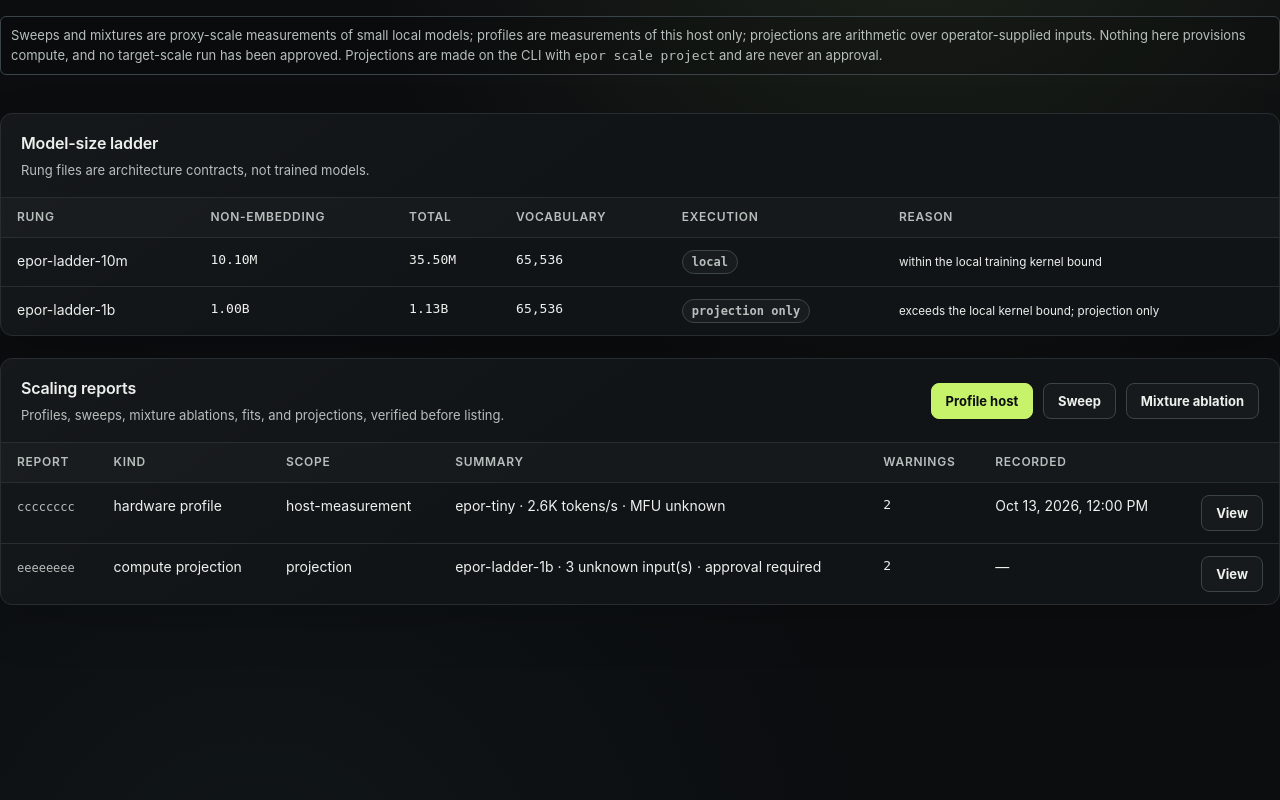
it: ScalingPage › reports MFU as unknown when no device peak was supplied
The width and height of the screenshot is (1280, 800).
Click the button "View" in the row of "cccccccc": (1232, 513) [1201,495,1263,531]
(page scrolled)
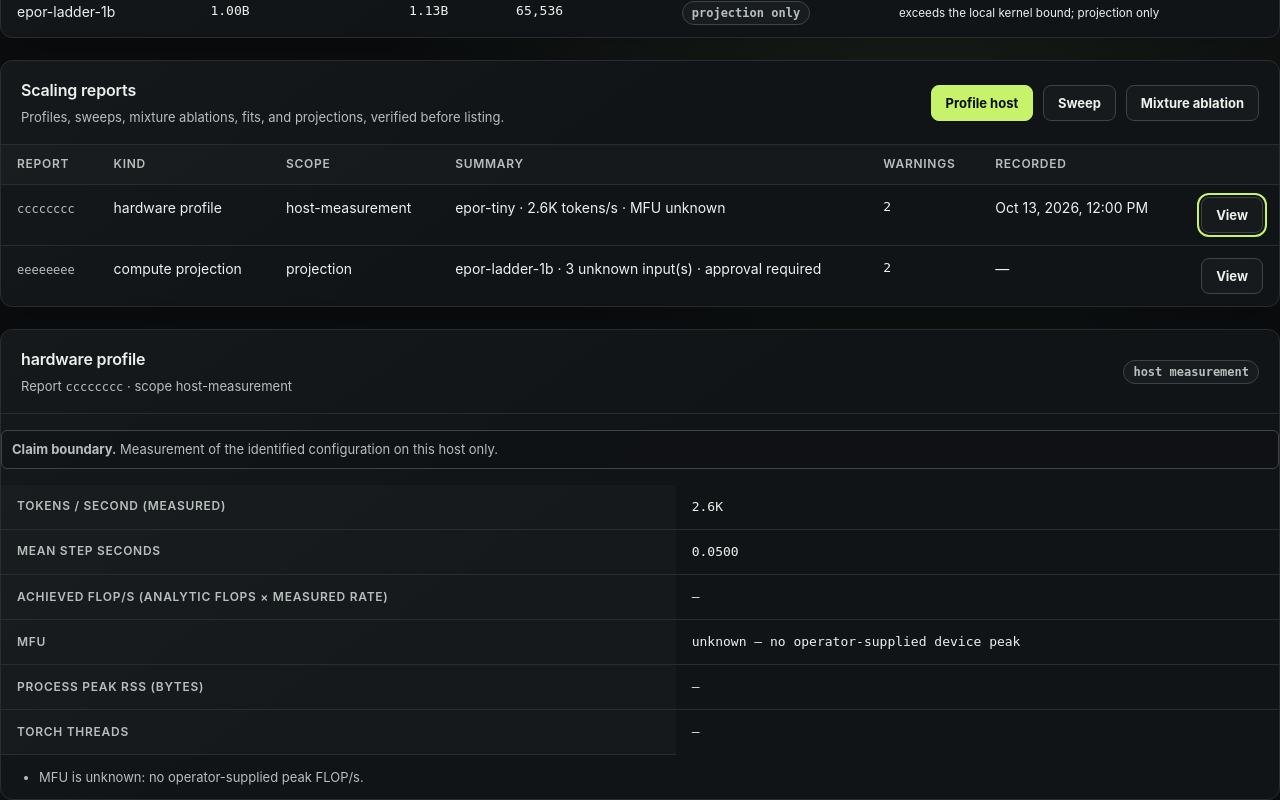
Expected: the text "unknown — no operator-supplied device peak" is shown, [676,620,1279,665]
Expected: the text "2.6K" is shown, [676,485,1279,529]
